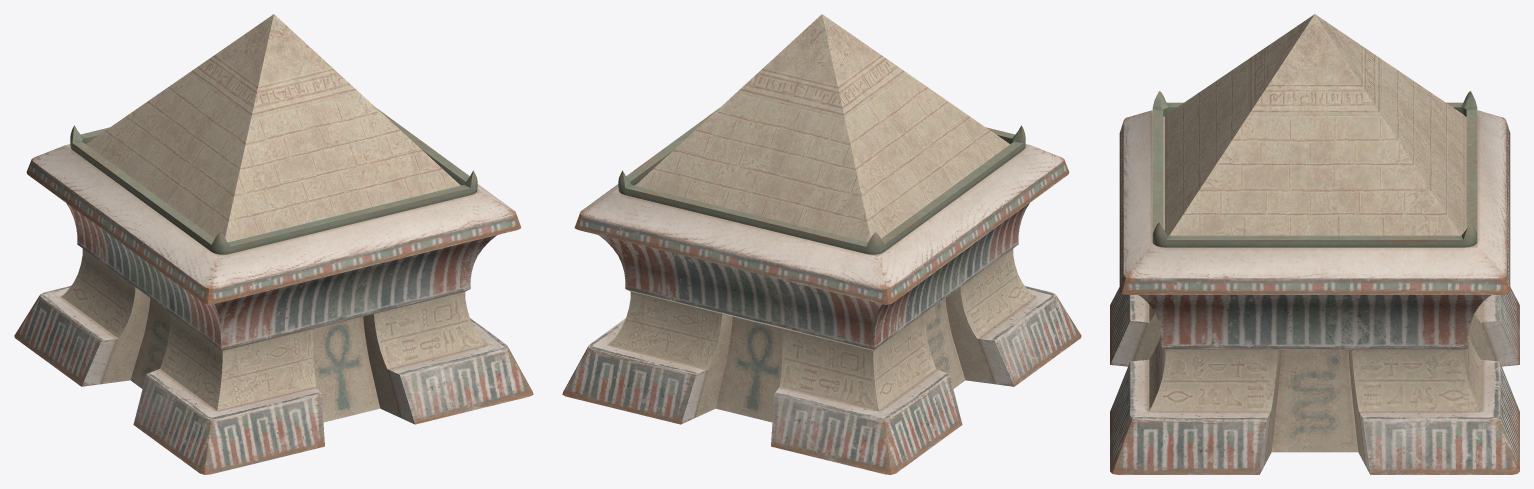
File: Old Structures5.fbx
3 renders of one model, left to right at view 1: azimuth 30°, elevation 25°; view 2: azimuth 150°, elevation 25°; view 3: azimuth 270°, elevation 25°, orthographic. The views are drawn at different scales.
Visible parts, largest first — view 1: Object_18.001, Object_12.001, Object_16.001, Object_14.001; view 2: Object_18.001, Object_12.001, Object_16.001, Object_14.001; view 3: Object_18.001, Object_12.001, Object_16.001, Object_14.001.
Part boxes in pixels (x1,y1,x2,y2): Object_18.001: (14,144,533,474); Object_12.001: (86,71,460,242); Object_16.001: (191,14,356,115); Object_14.001: (70,107,477,254); Object_18.001: (562,144,1081,474); Object_12.001: (635,71,1009,242); Object_16.001: (739,14,904,115); Object_14.001: (618,108,1025,254); Object_18.001: (1110,110,1519,474); Object_12.001: (1165,58,1464,235); Object_16.001: (1250,14,1379,112); Object_14.001: (1152,91,1477,247).
Size of the model in its own units: 470 by 473 by 470.
Materials: 1 (1 with a texture image).
